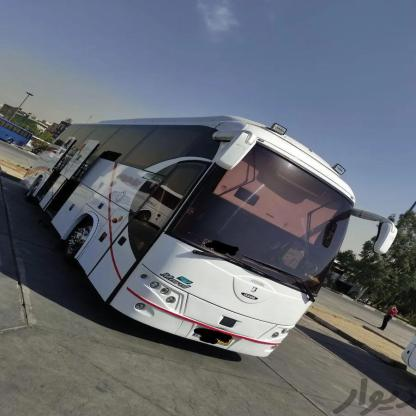Bus: (29, 104, 361, 398)
